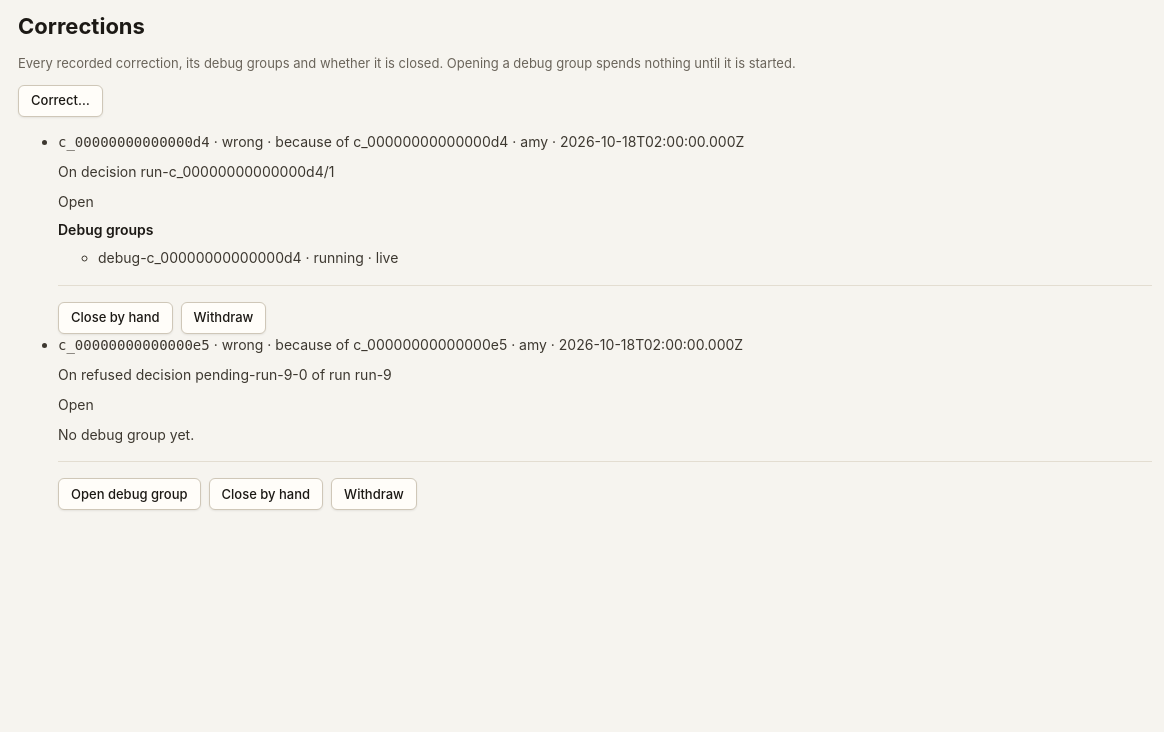
Test: the Corrections list (Task 13) › close by hand sends the form (blank optional boxes left out) and shows the stop-first hint on debug-group-active
Expected: the text "On refused decision pending-run-9-0 of run run-9" is shown, [58,366,392,383]
Expected: the button "Close by hand" below "because of c_00000000000000e5" is shown, [208,478,323,510]
Click the button "Close by hand" below "because of c_00000000000000d4" at (115, 318), box [58,302,173,334]
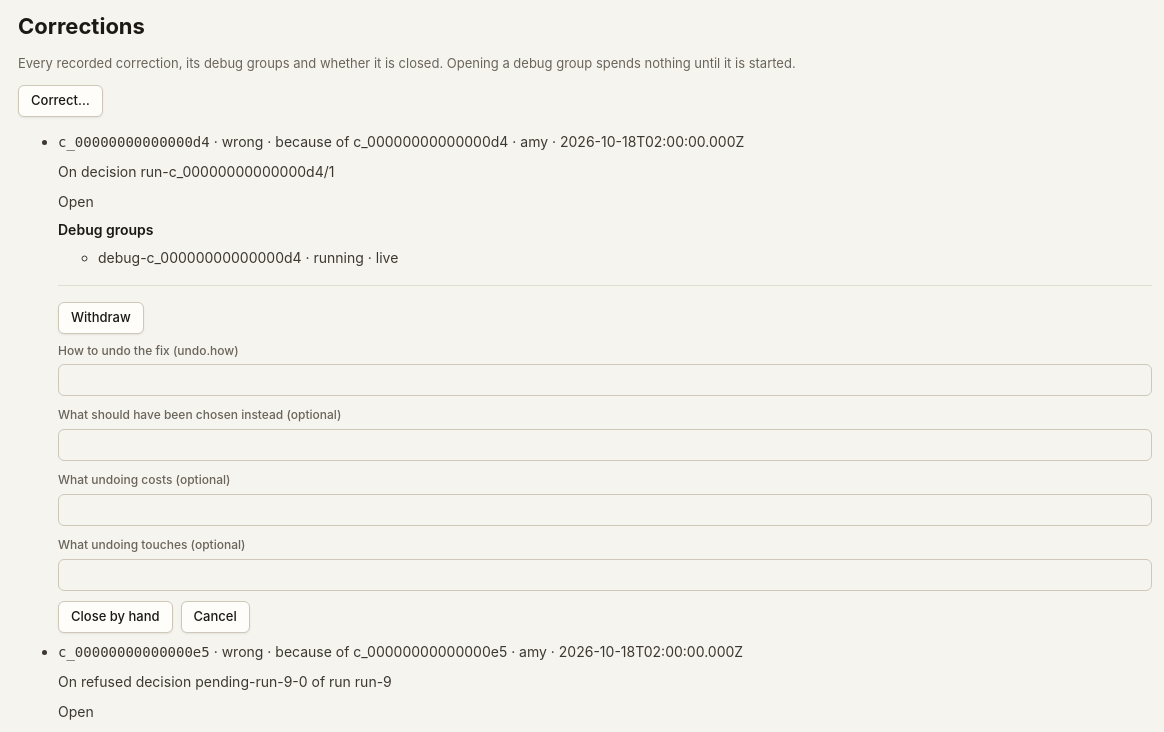
Type "git revert --no-edit abc" into the field named "undoHow" at (605, 380), box [58,364,1152,396]
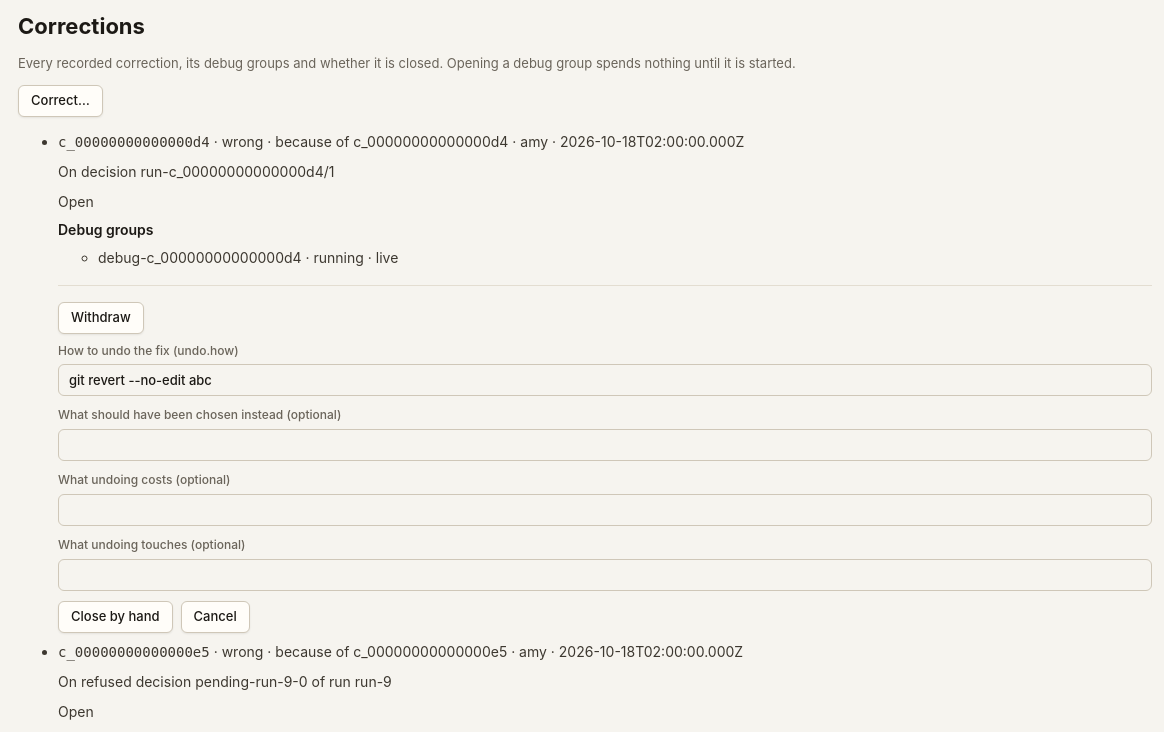
Type "one commit" into the field named "undoCost" at (605, 510), box [58,494,1152,526]
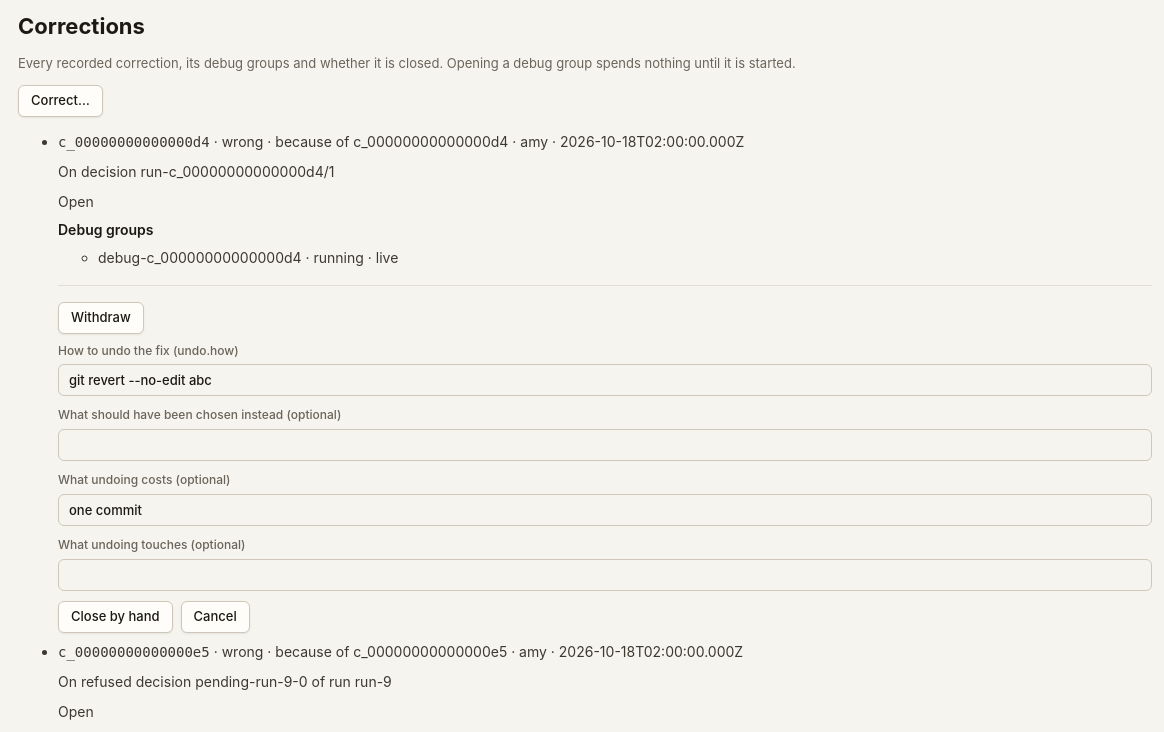
Submit the form with class "close-form", box [58,342,1152,633]
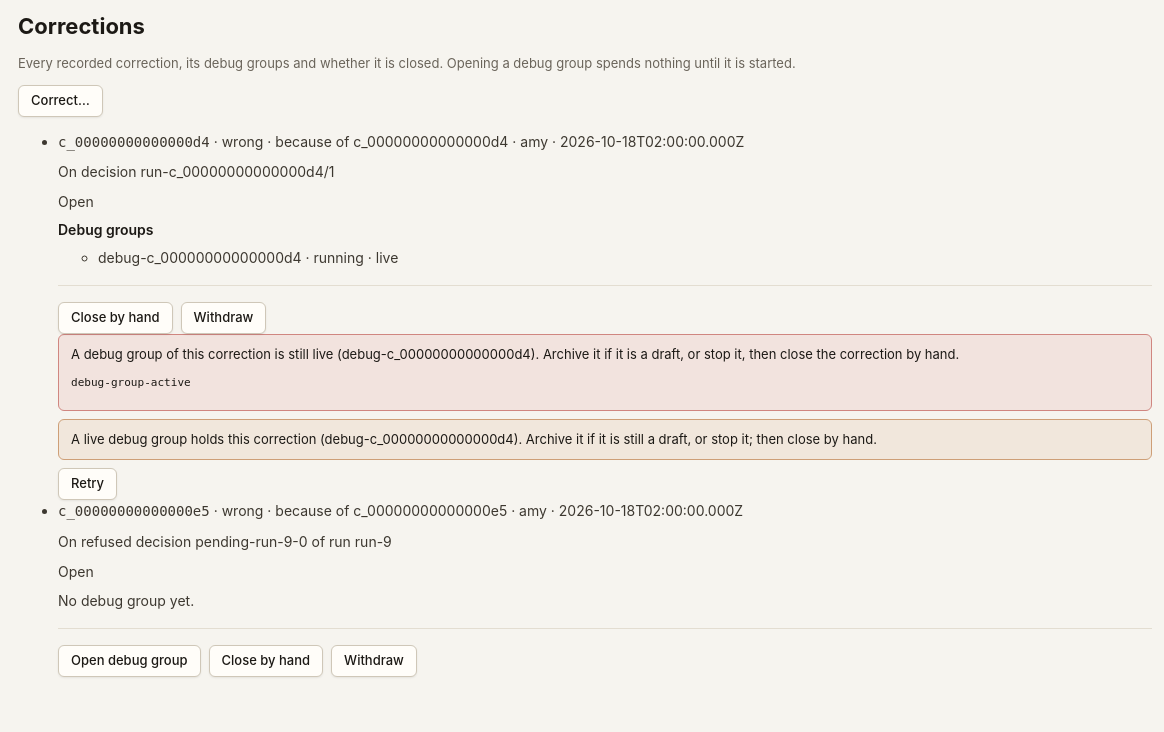
Expected: the text "debug-group-active" is shown, [71,376,191,389]
